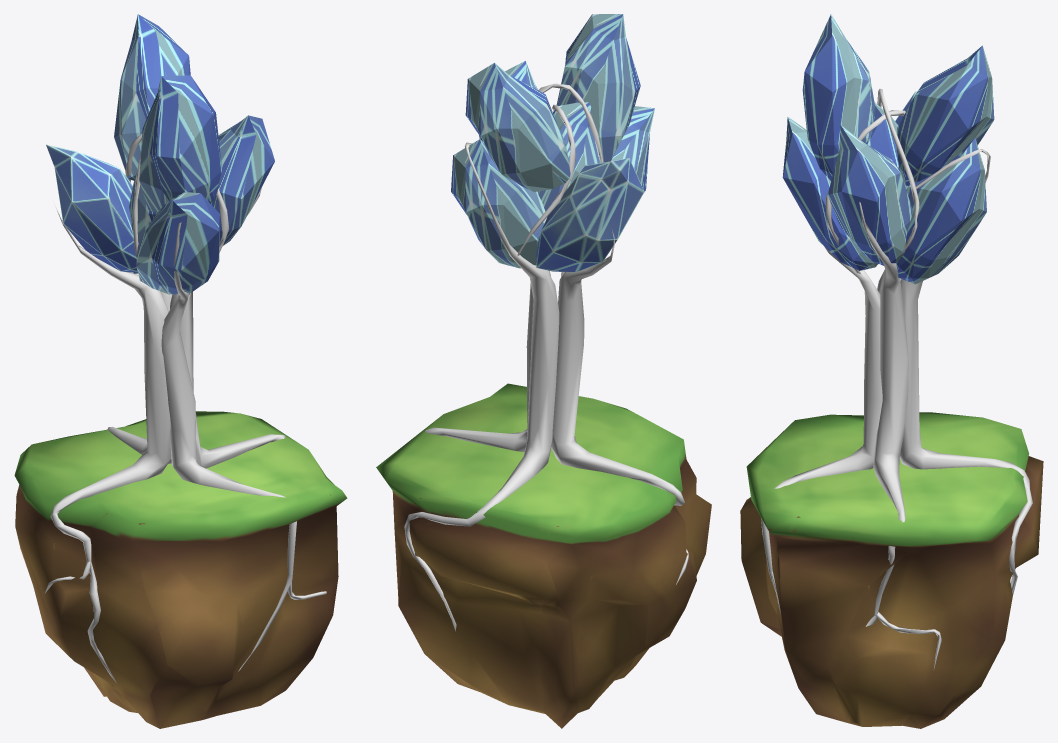
Rendered from floating tree1.fbx.
3 renders of one model, left to right at view 1: azimuth 30°, elevation 25°; view 2: azimuth 150°, elevation 25°; view 3: azimuth 270°, elevation 25°, orthographic.
Parts seen in each view (by area): view 1: rock1LP.001, Icosphere.013, NurbsPath.010, Icosphere.012, Icosphere.011, NurbsPath.013, Icosphere.009, Icosphere.010, NurbsPath.012, Icosphere.007, NurbsPath.018, NurbsPath.011; view 2: rock1LP.001, Icosphere.009, NurbsPath.011, Icosphere.012, Icosphere.013, Icosphere.008, NurbsPath.010, Icosphere.007, NurbsPath.012, Icosphere.011, NurbsPath.018, NurbsPath.017; view 3: rock1LP.001, Icosphere.009, Icosphere.010, Icosphere.008, Icosphere.013, NurbsPath.012, NurbsPath.011, NurbsPath.013, Icosphere.011, Icosphere.007, NurbsPath.017, NurbsPath.018.
Boxes of the visible parts, <box> form: rock1LP.001: <box>14,411,347,728</box>; Icosphere.013: <box>139,75,221,212</box>; NurbsPath.010: <box>50,203,171,683</box>; Icosphere.012: <box>46,144,137,272</box>; Icosphere.011: <box>136,192,219,294</box>; NurbsPath.013: <box>161,203,296,671</box>; Icosphere.009: <box>114,14,190,180</box>; Icosphere.010: <box>210,115,274,245</box>; NurbsPath.012: <box>170,187,285,468</box>; Icosphere.007: <box>129,171,157,273</box>; NurbsPath.018: <box>125,133,229,294</box>; NurbsPath.011: <box>107,291,172,463</box>; rock1LP.001: <box>376,383,711,728</box>; Icosphere.009: <box>465,63,571,191</box>; NurbsPath.011: <box>404,142,559,646</box>; Icosphere.012: <box>536,158,644,272</box>; Icosphere.013: <box>556,14,640,162</box>; Icosphere.008: <box>451,139,546,268</box>; NurbsPath.010: <box>551,230,684,505</box>; Icosphere.007: <box>538,102,600,217</box>; NurbsPath.012: <box>425,270,550,451</box>; Icosphere.011: <box>611,106,654,191</box>; NurbsPath.018: <box>517,104,575,255</box>; NurbsPath.017: <box>538,83,603,162</box>; rock1LP.001: <box>740,412,1043,728</box>; Icosphere.009: <box>896,45,994,186</box>; Icosphere.010: <box>827,125,912,265</box>; Icosphere.008: <box>896,138,986,284</box>; Icosphere.013: <box>802,14,874,180</box>; NurbsPath.012: <box>859,202,908,626</box>; NurbsPath.011: <box>899,149,1032,594</box>; NurbsPath.013: <box>761,246,882,593</box>; Icosphere.011: <box>782,117,877,270</box>; Icosphere.007: <box>866,102,907,189</box>; NurbsPath.017: <box>877,88,919,251</box>; NurbsPath.018: <box>825,110,905,274</box>.
Bounding box in the file's own units: 794 × 1924 × 790.
2 materials, 2 textured.
